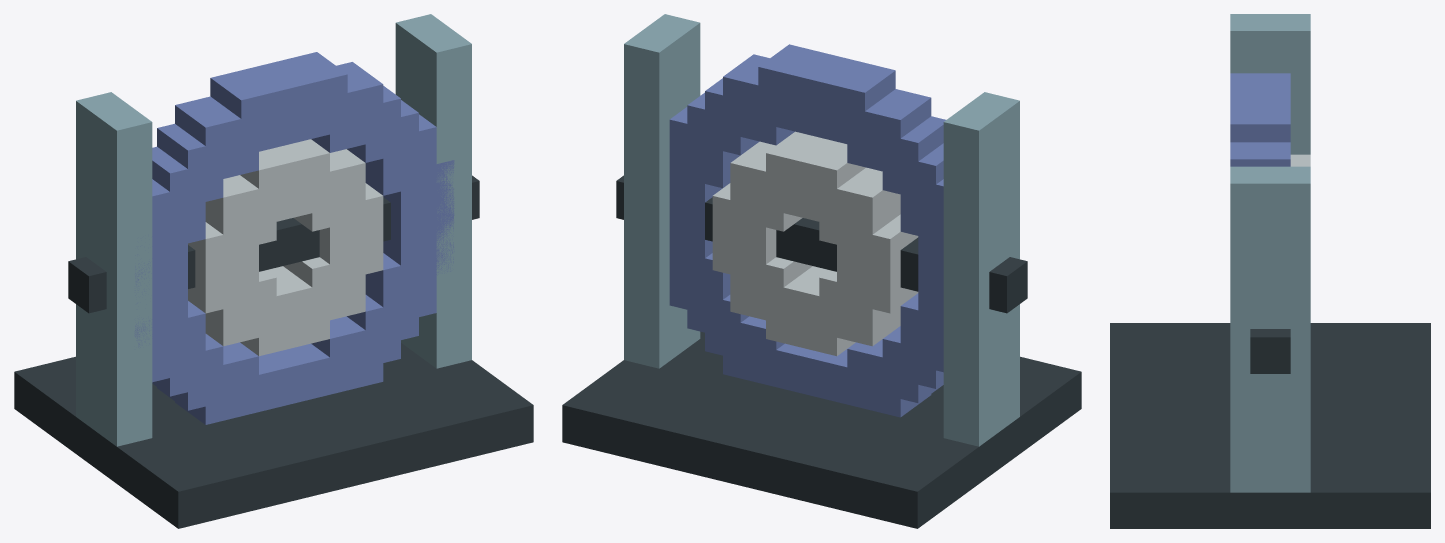
File: inertial_cell.glb
3 renders of one model, left to right at view 1: azimuth 30°, elevation 25°; view 2: azimuth 150°, elevation 25°; view 3: azimuth 270°, elevation 25°, orthographic. The views are drawn at different scales.
Visible parts, largest first — view 1: inertial_cell/shaft, inertial_cell/housing; view 2: inertial_cell/housing, inertial_cell/shaft; view 3: inertial_cell/housing, inertial_cell/shaft.
Boxes of the visible parts, bbox=[...] form: inertial_cell/shaft: bbox=[68, 52, 479, 424]; inertial_cell/housing: bbox=[14, 14, 533, 528]; inertial_cell/housing: bbox=[562, 14, 1081, 528]; inertial_cell/shaft: bbox=[616, 44, 1027, 417]; inertial_cell/housing: bbox=[1110, 14, 1430, 528]; inertial_cell/shaft: bbox=[1230, 73, 1310, 373].
Bounding box in the file's own units: 0.6875 × 0.5938 × 0.5.
